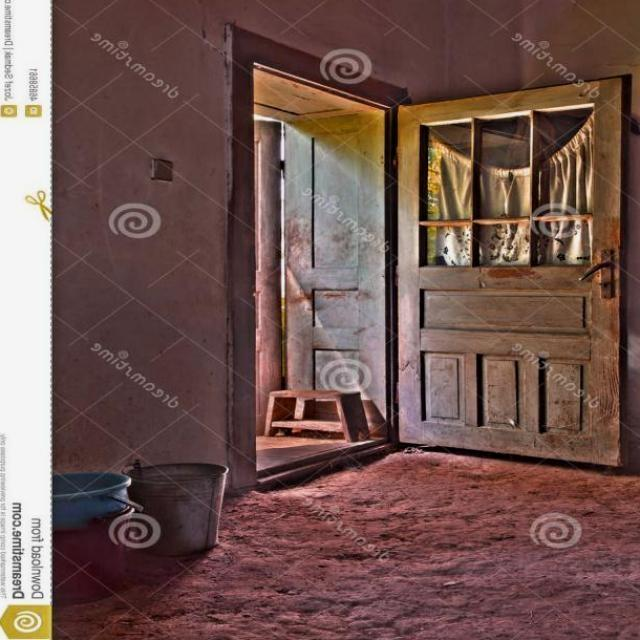door: (394, 73, 627, 468)
